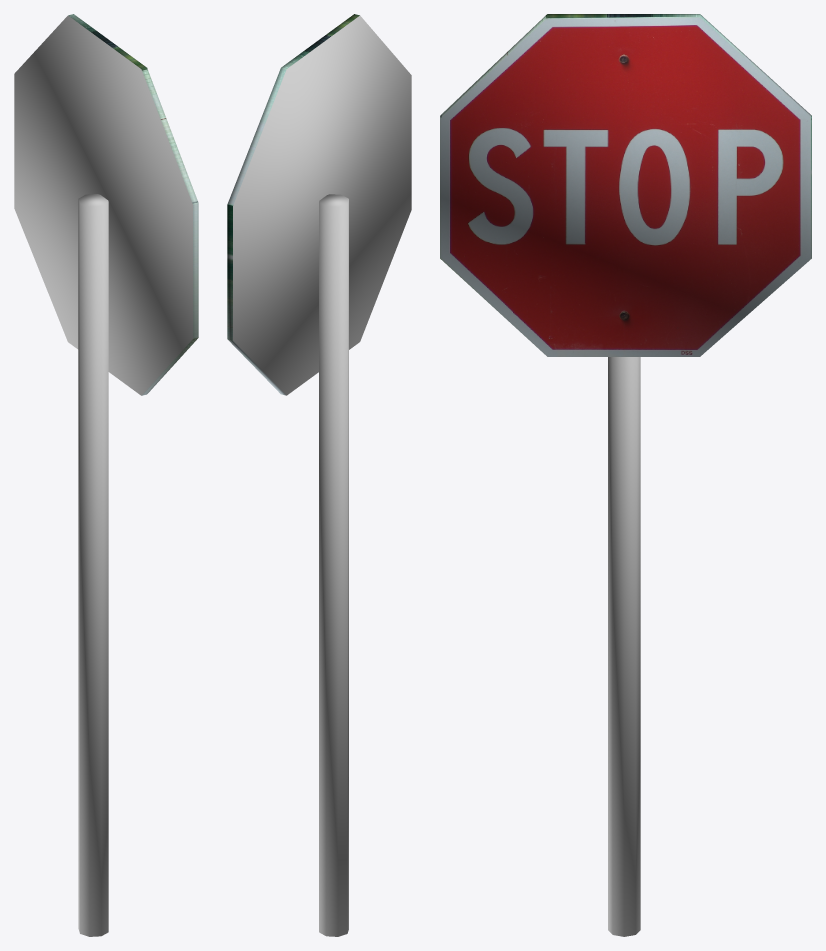
Rendered from stop.fbx.
3 views of the same model, side by side, from view 1: azimuth 30°, elevation 25°; view 2: azimuth 150°, elevation 25°; view 3: azimuth 270°, elevation 25° (orthographic). The views are drawn at different scales.
Visible parts, largest first — view 1: TexturesCom_SignStop0003_M; view 2: TexturesCom_SignStop0003_M; view 3: TexturesCom_SignStop0003_M.
Boxes of the visible parts, x1,y1,x2,y2 form: TexturesCom_SignStop0003_M: (14,14,198,936); TexturesCom_SignStop0003_M: (227,14,411,936); TexturesCom_SignStop0003_M: (440,14,811,936).
Size of the model in its own units: 28.69 by 805 by 294.
